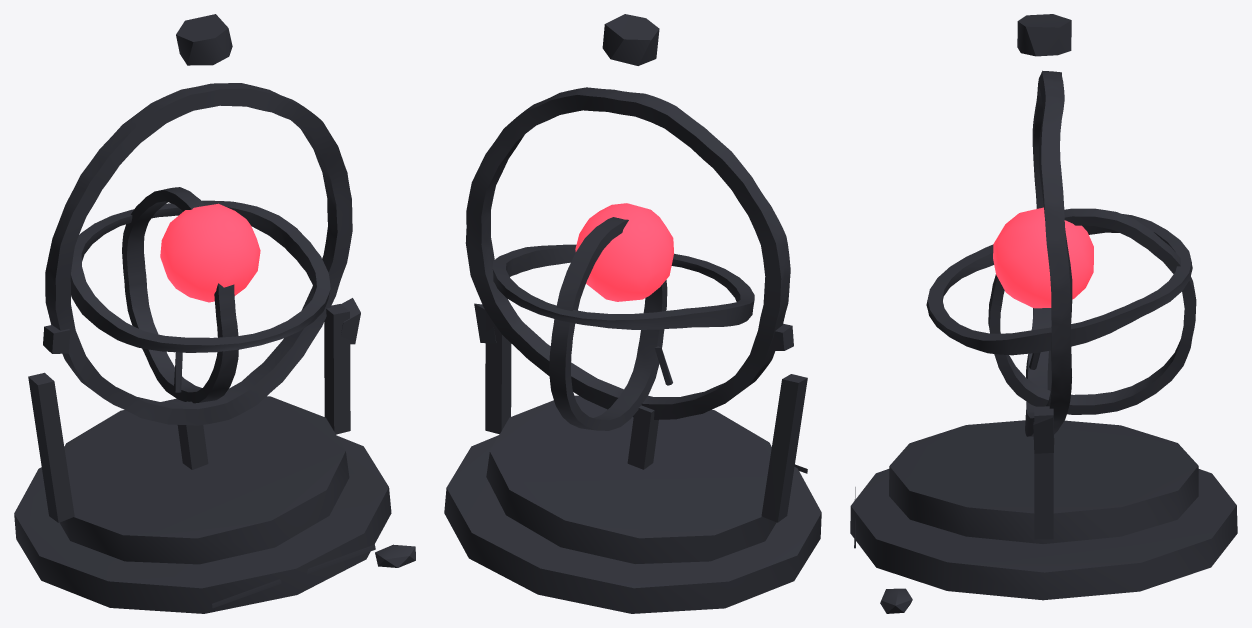
Rendered from mrd_deb_convergence_core_a.glb.
3 renders of one model, left to right at view 1: azimuth 30°, elevation 25°; view 2: azimuth 150°, elevation 25°; view 3: azimuth 270°, elevation 25°, orthographic. The views are drawn at different scales.
Visible parts, largest first — view 1: husk, frag_02, frag_03, frag_04, frag_01, frag_05; view 2: husk, frag_02, frag_01, frag_03, frag_04, frag_05; view 3: husk, frag_02, frag_03, frag_01, frag_04, frag_05.
Part boxes in pixels (box(x1,y1,x2,y2)): husk: box(14, 304, 415, 613); frag_02: box(45, 83, 352, 425); frag_03: box(70, 200, 330, 352); frag_04: box(43, 203, 360, 353); frag_01: box(122, 187, 238, 403); frag_05: box(176, 14, 232, 65); husk: box(444, 311, 821, 613); frag_02: box(465, 87, 790, 419); frag_01: box(549, 217, 667, 430); frag_03: box(492, 244, 754, 329); frag_04: box(474, 203, 793, 350); frag_05: box(602, 14, 659, 65); husk: box(850, 350, 1237, 613); frag_02: box(1025, 70, 1072, 436); frag_03: box(926, 214, 1192, 355); frag_01: box(988, 208, 1196, 414); frag_04: box(993, 207, 1093, 453); frag_05: box(1017, 14, 1071, 56).
Size of the model in its own units: 0.8127 by 1.21 by 0.7961.
